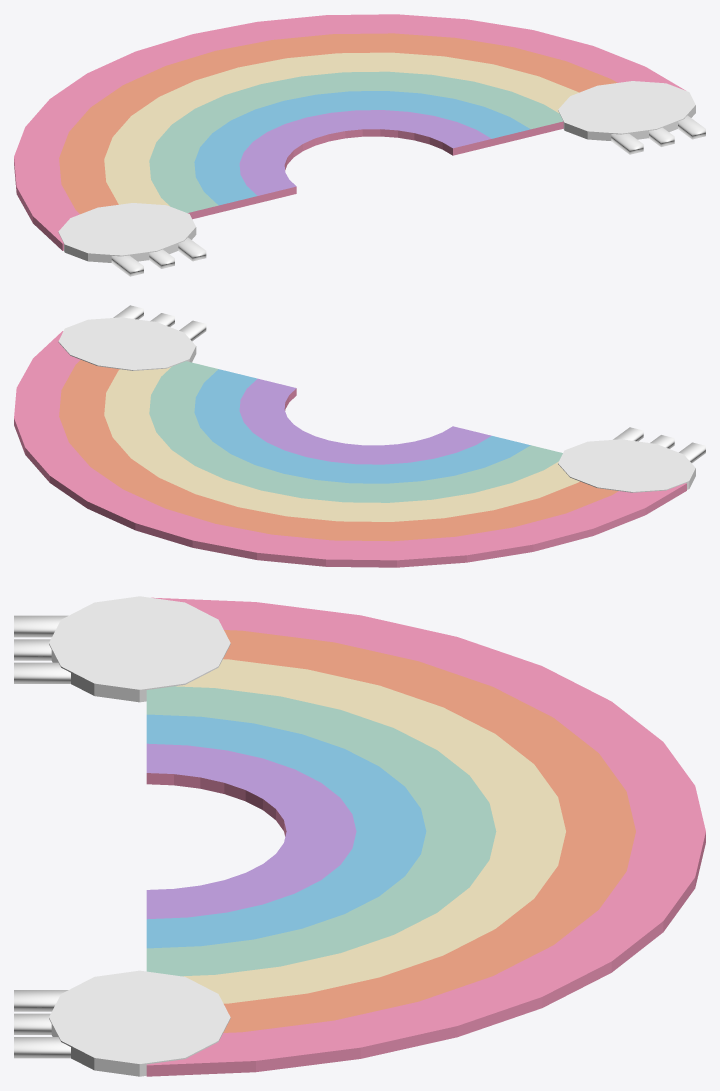
File: rug_rainbow.glb
3 renders of one model, top to bottom at view 1: azimuth 30°, elevation 25°; view 2: azimuth 150°, elevation 25°; view 3: azimuth 270°, elevation 25°, orthographic. The views are drawn at different scales.
Parts seen in each view (by area): view 1: Body; view 2: Body; view 3: Body.
Boxes of the visible parts, x1,y1,x2,y2 form: Body: (14, 14, 705, 276); Body: (14, 305, 705, 567); Body: (14, 596, 705, 1076).
Bounding box in the file's own units: 1.6 × 0.02 × 1.
Materials: 7 (7 with a texture image).
